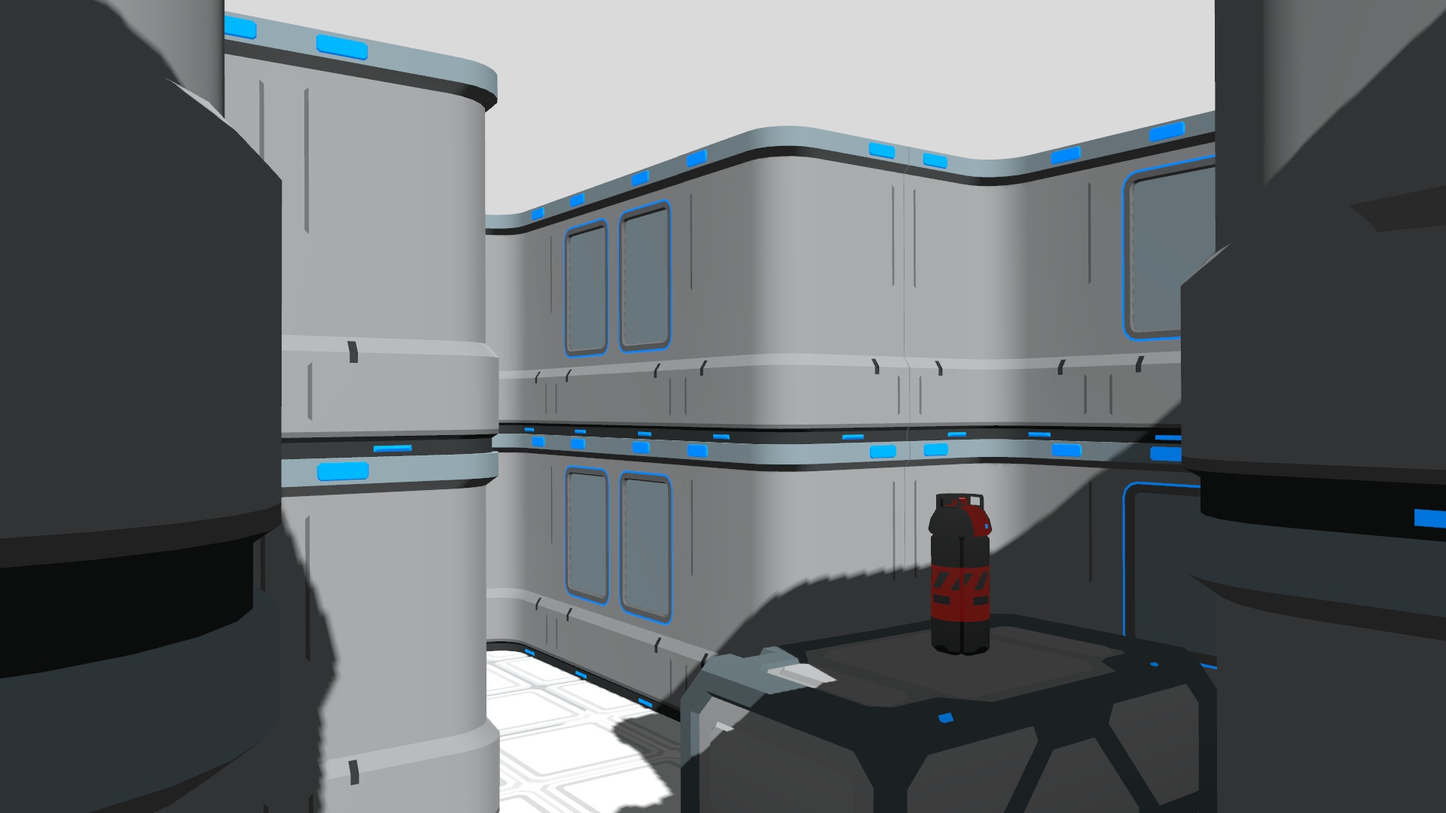red_barrel: (928, 491, 999, 662)
